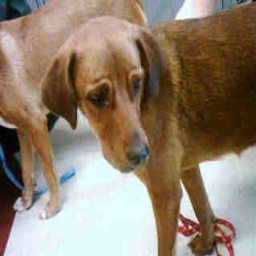dog: (2, 0, 256, 256)
